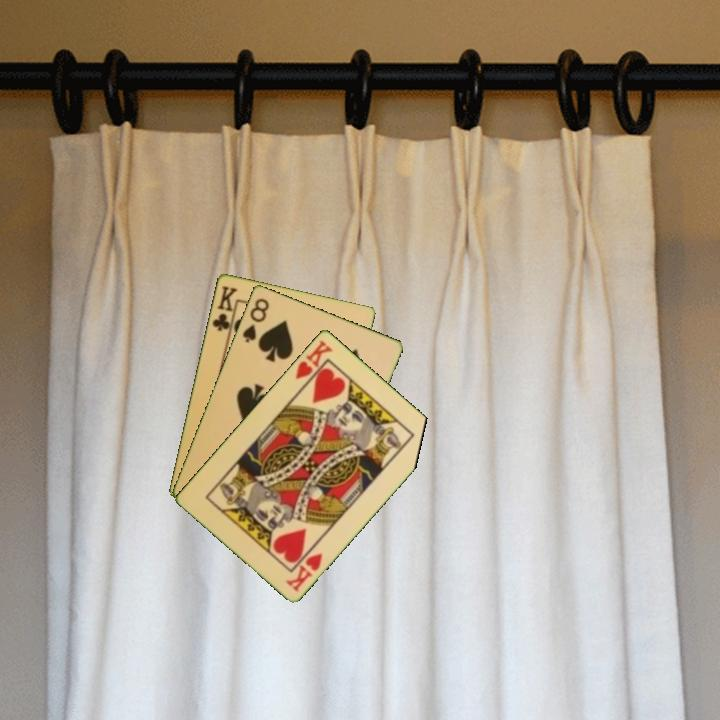8s: (239, 294, 272, 345)
Kc: (208, 282, 240, 338)
Kh: (292, 336, 335, 390), (282, 549, 325, 594)
